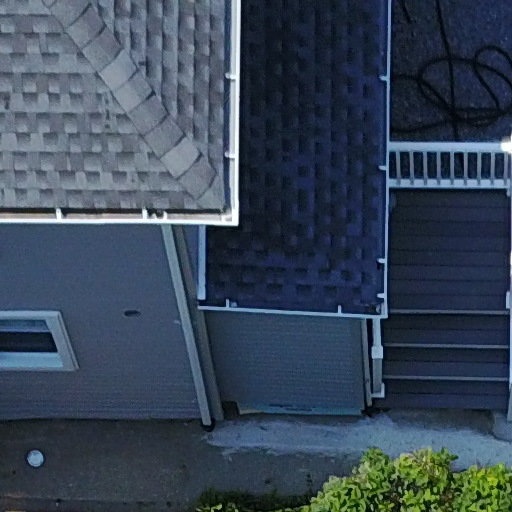porch: (331, 120, 512, 443)
